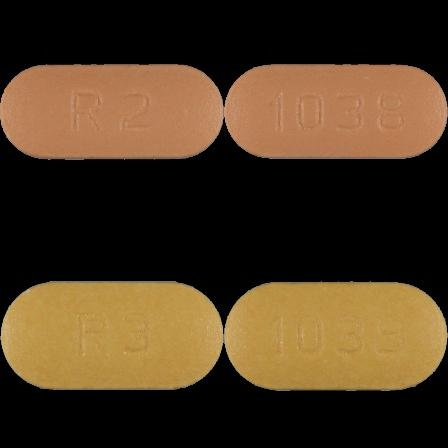13668-038: (0, 0, 224, 224)
